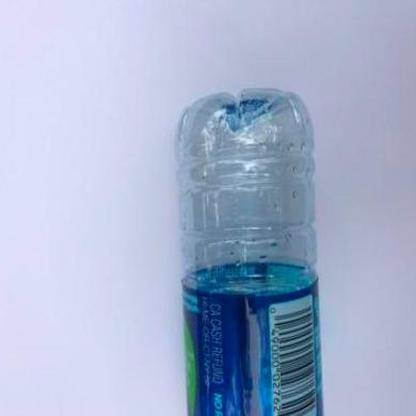plastic bottle: (175, 87, 325, 416)
